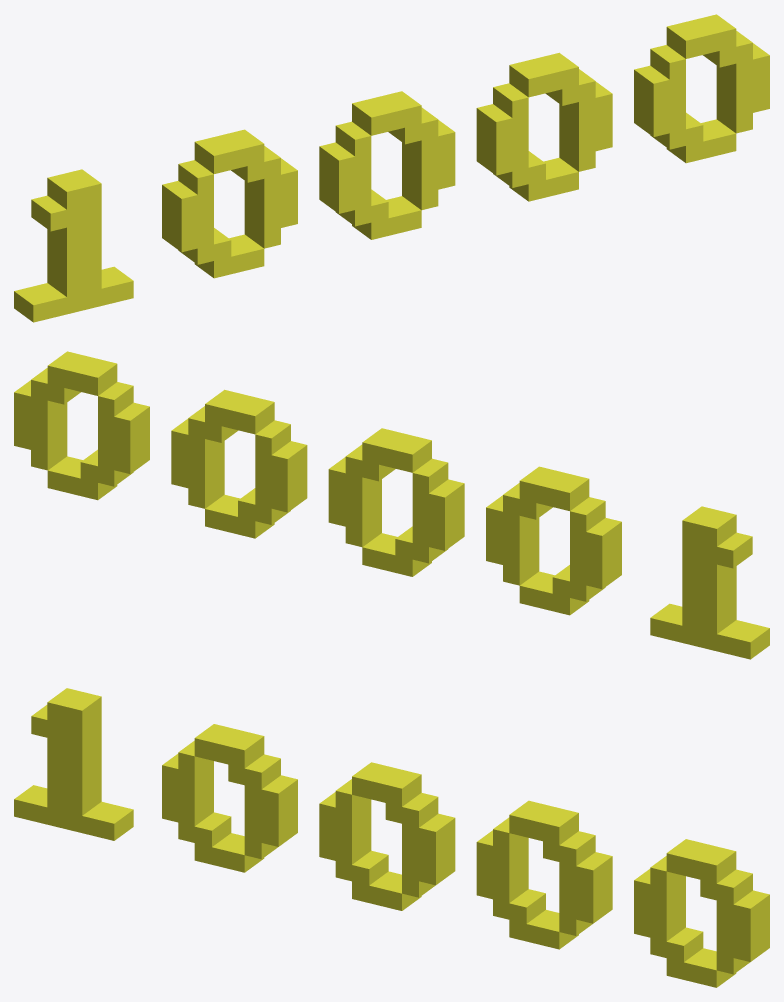
3 renders of one model, top to bottom at view 1: azimuth 30°, elevation 25°; view 2: azimuth 150°, elevation 25°; view 3: azimuth 330°, elevation 25°, orthographic.
Visible parts, largest first — view 1: 0.2, 0.3, 0.4, 0, 1; view 2: 0.2, 0.3, 0.4, 0, 1; view 3: 0.2, 0.3, 0.4, 0, 1.
Boxes of the visible parts, left/top/right/bottom form: 0.2: left=319, top=91, right=455, bottom=239; 0.3: left=476, top=52, right=612, bottom=201; 0.4: left=634, top=14, right=769, bottom=163; 0: left=162, top=129, right=297, bottom=278; 1: left=14, top=169, right=133, bottom=322; 0.2: left=328, top=428, right=464, bottom=576; 0.3: left=171, top=389, right=307, bottom=538; 0.4: left=14, top=351, right=149, bottom=500; 0: left=486, top=466, right=621, bottom=615; 1: left=650, top=506, right=769, bottom=659; 0.2: left=319, top=762, right=455, bottom=910; 0.3: left=476, top=800, right=612, bottom=949; 0.4: left=634, top=839, right=769, bottom=987; 0: left=162, top=724, right=297, bottom=872; 1: left=14, top=688, right=133, bottom=840.
Bounding box in the file's own units: 655 × 104 × 30.
